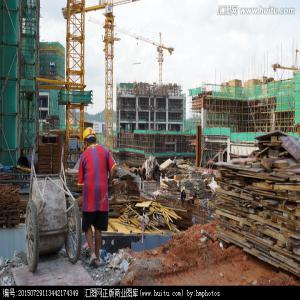yellow: (83, 125, 97, 150)
